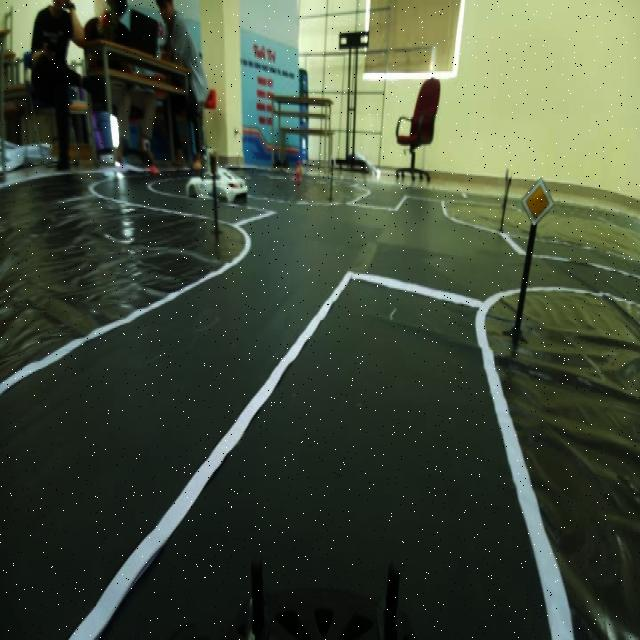priority: (526, 170, 556, 232)
